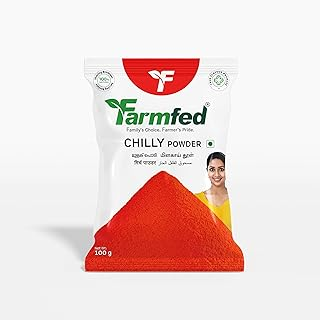Chilli Powder: (79, 60, 258, 277)
